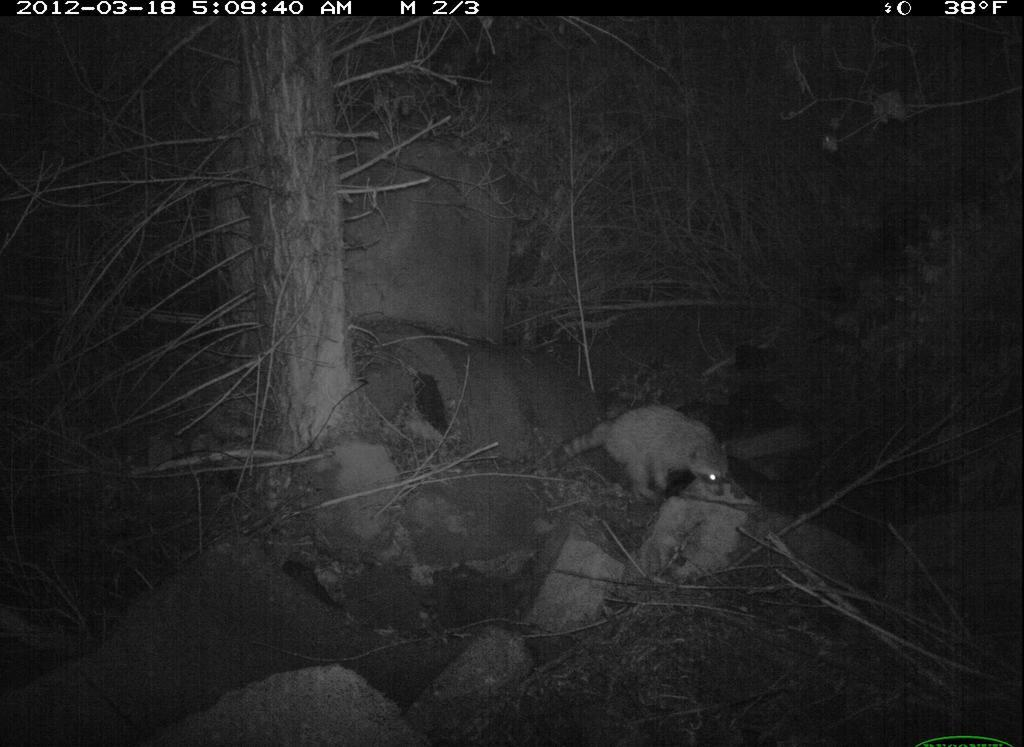raccoon: (551, 393, 738, 511)
